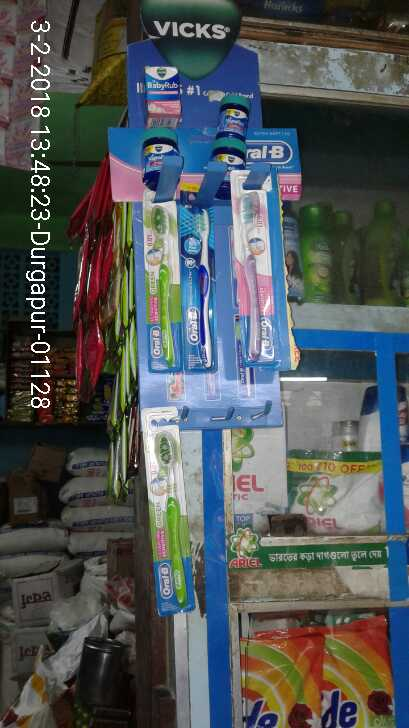home: (282, 446, 386, 534), (239, 629, 326, 728), (330, 620, 392, 728)
pharmacy: (129, 66, 255, 180), (145, 430, 197, 607), (241, 194, 281, 370), (182, 214, 226, 370), (151, 198, 180, 364)
